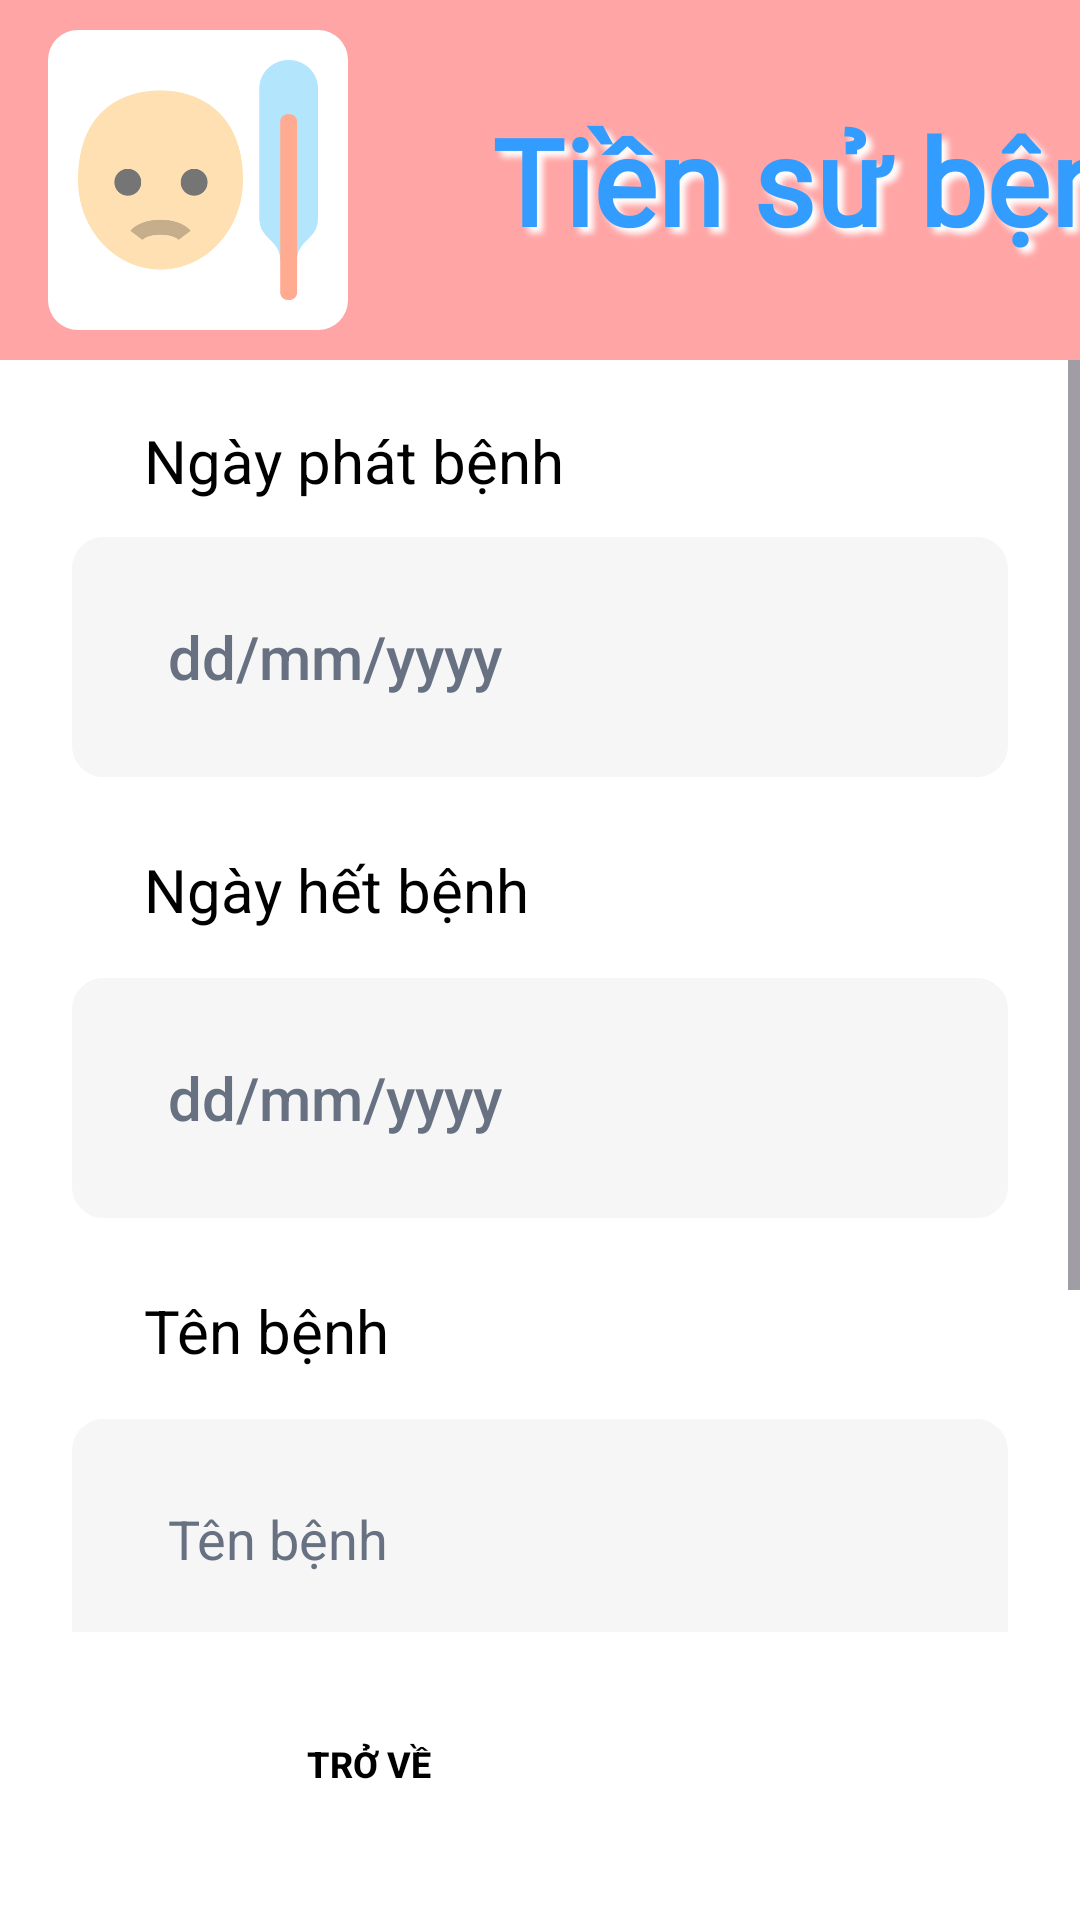

Icons on this 1080*1920 Android screen, each with its box as Rect(x1, y1, x2, y2):
babymedicalhistory: Rect(78, 60, 318, 300)
